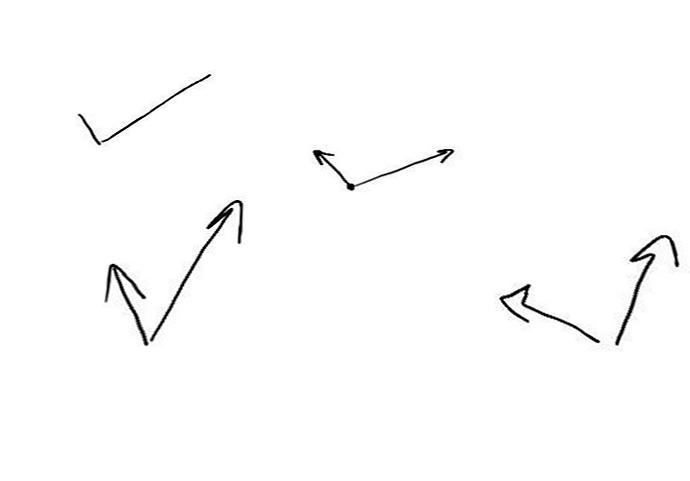arrow: (153, 199, 245, 343), (617, 234, 679, 344), (500, 281, 599, 341), (356, 147, 453, 184), (105, 264, 149, 341), (312, 147, 348, 185)
arrownohead: (103, 73, 211, 139), (77, 113, 100, 144)
